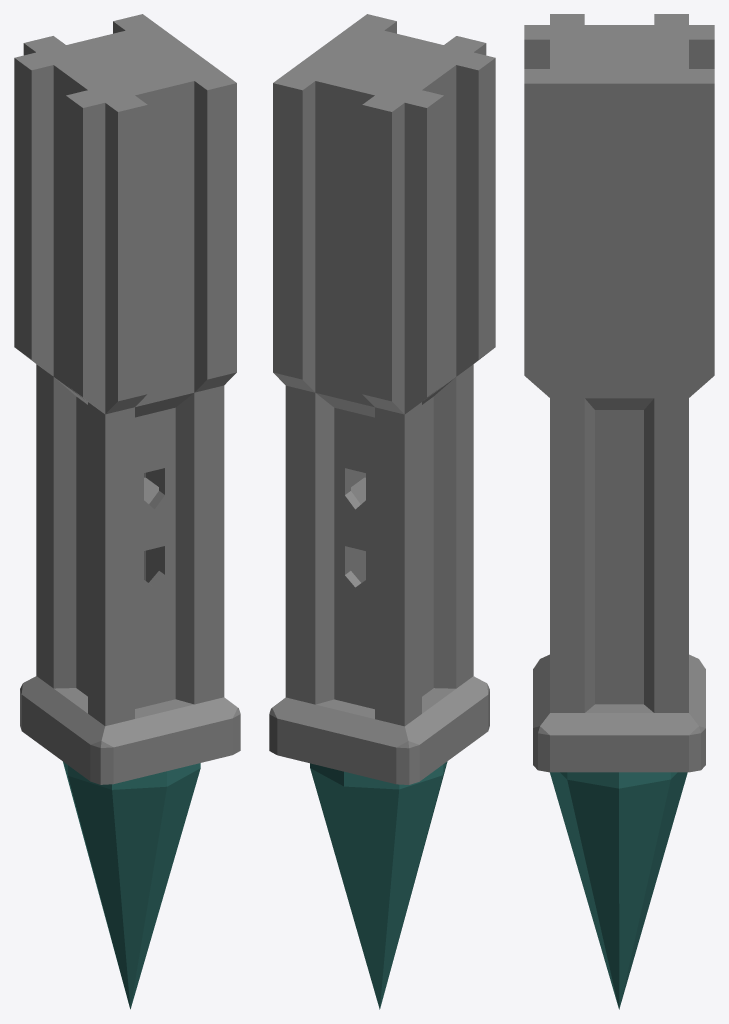
The model's file is ITEM_Church.fbx.
3 views of the same model, side by side, from view 1: azimuth 30°, elevation 25°; view 2: azimuth 150°, elevation 25°; view 3: azimuth 270°, elevation 25° (orthographic).
Parts seen in each view (by area): view 1: ITEM_Church; view 2: ITEM_Church; view 3: ITEM_Church.
Boxes of the visible parts, bbox=[...] form: ITEM_Church: bbox=[14, 14, 240, 1009]; ITEM_Church: bbox=[269, 14, 495, 1009]; ITEM_Church: bbox=[524, 14, 714, 1009].
Size of the model in its own units: 915 by 5308 by 958.
